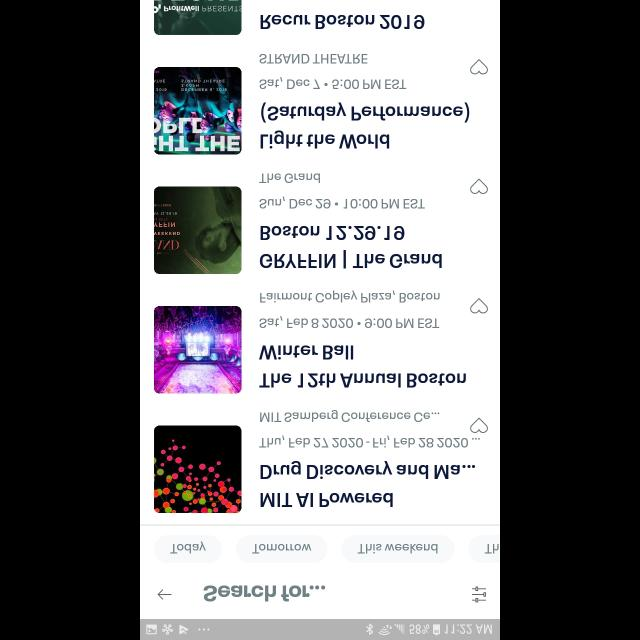icon: (469, 59, 488, 75), (470, 178, 488, 194), (470, 298, 488, 314), (470, 417, 488, 433), (472, 586, 486, 602), (158, 589, 172, 599)
image: (154, 66, 242, 154), (154, 186, 242, 274), (154, 306, 242, 394), (154, 426, 242, 512), (154, 1, 242, 36)
text: (260, 460, 476, 508), (260, 102, 470, 150), (258, 344, 466, 388), (260, 226, 442, 268), (260, 434, 480, 448), (260, 15, 424, 30), (203, 584, 325, 602), (260, 290, 440, 302), (259, 316, 439, 328), (260, 410, 440, 422), (259, 76, 406, 90), (259, 196, 425, 208), (260, 53, 368, 63), (260, 173, 320, 183)
textbutton: (342, 534, 454, 562), (236, 534, 328, 562), (154, 534, 222, 562), (468, 534, 500, 562)
uppertaskbar: (140, 618, 500, 640)
